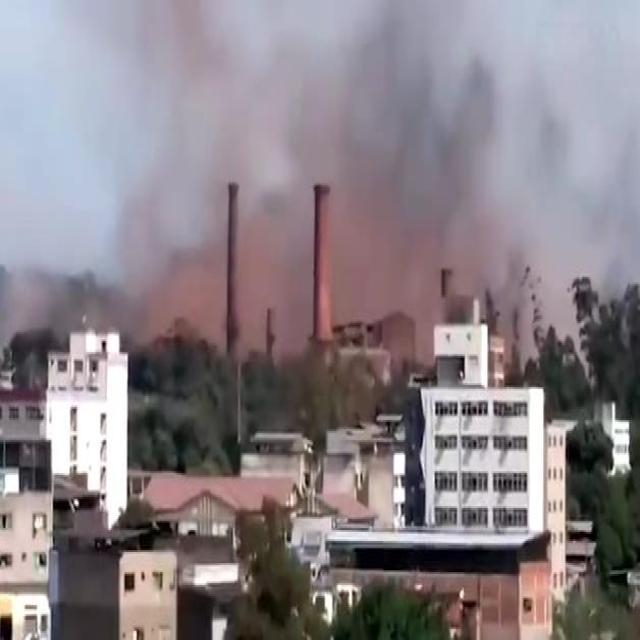Smoke: (105, 29, 322, 326), (342, 41, 565, 322)
